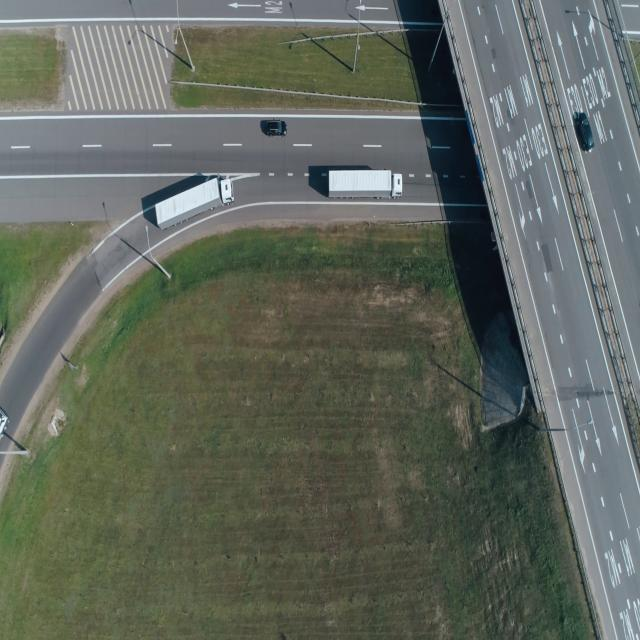vehicle: (154, 175, 234, 230), (328, 168, 404, 200), (576, 110, 595, 154), (266, 120, 287, 136)
